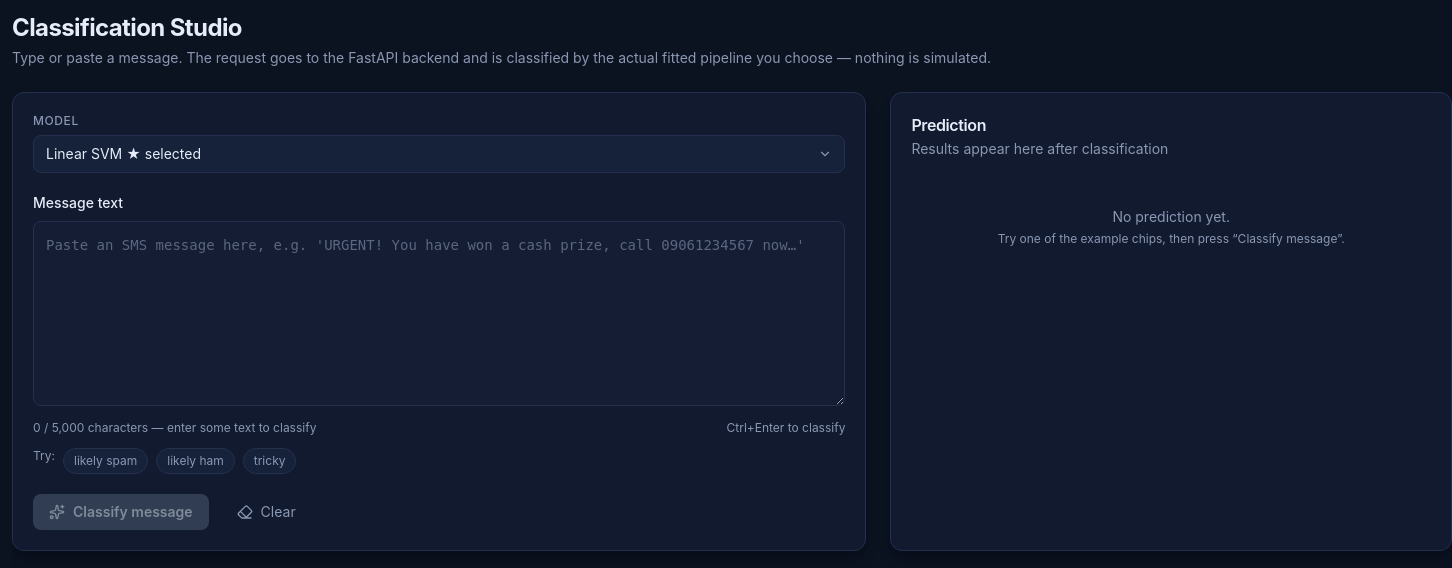
Test: Studio page › classifies text via the real API and renders the result
Replace the text in the text box labelled "Message text" with "URGENT! You have won a prize" at (439, 314), box [33,221,845,406]
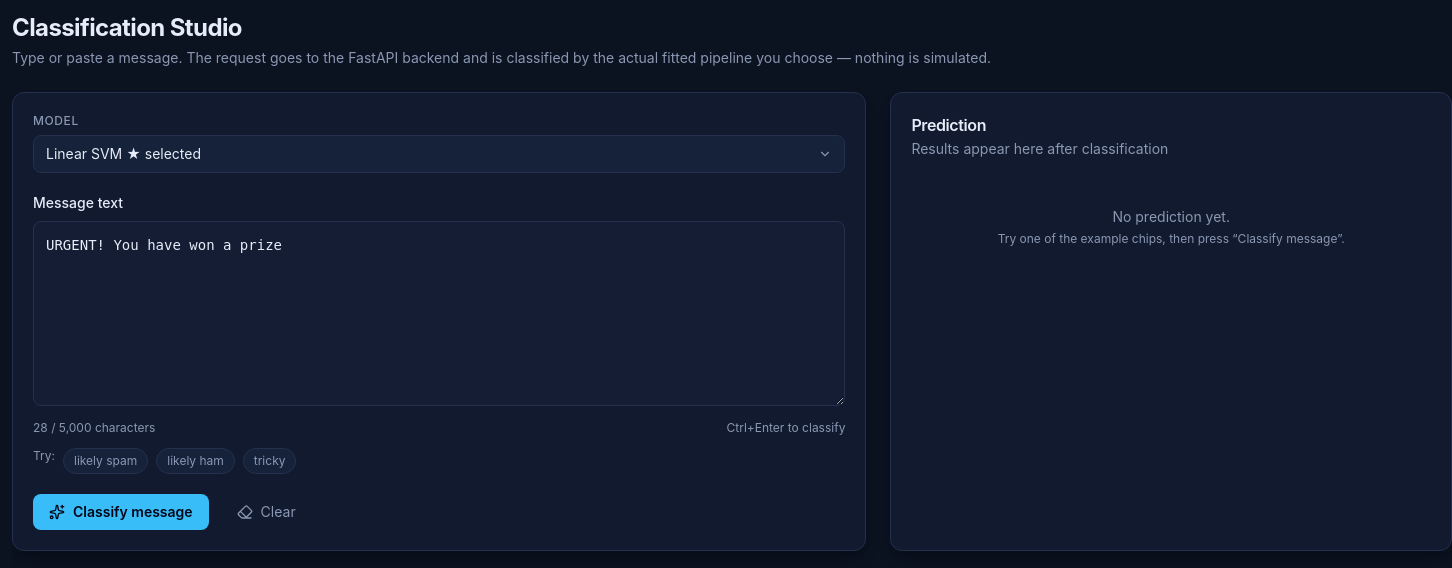
Click the button "Classify message" at (121, 512), box [33,494,209,530]
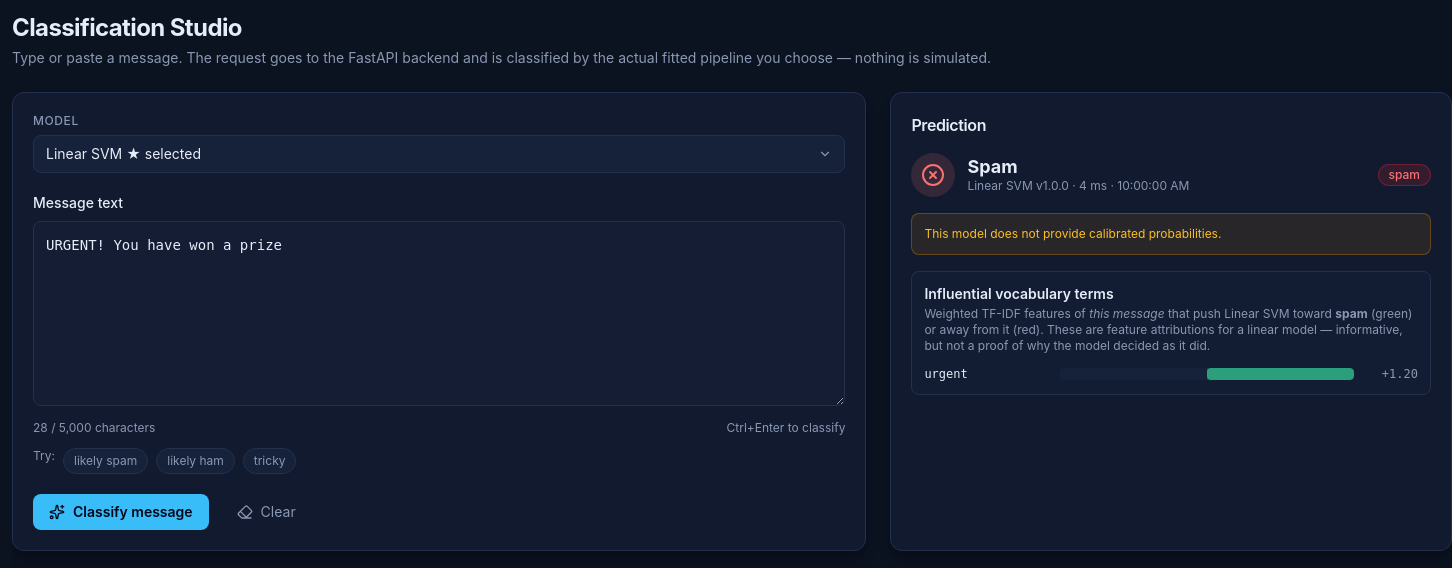
Expected: the text "Spam" is shown, [967,156,1018,177]
Expected: the text "This model does not provide calibrated probabilities." is shown, [911,213,1431,255]
